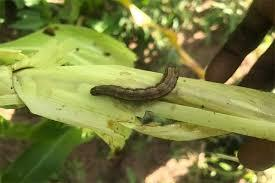fallarmy_worm: (84, 63, 190, 100)
